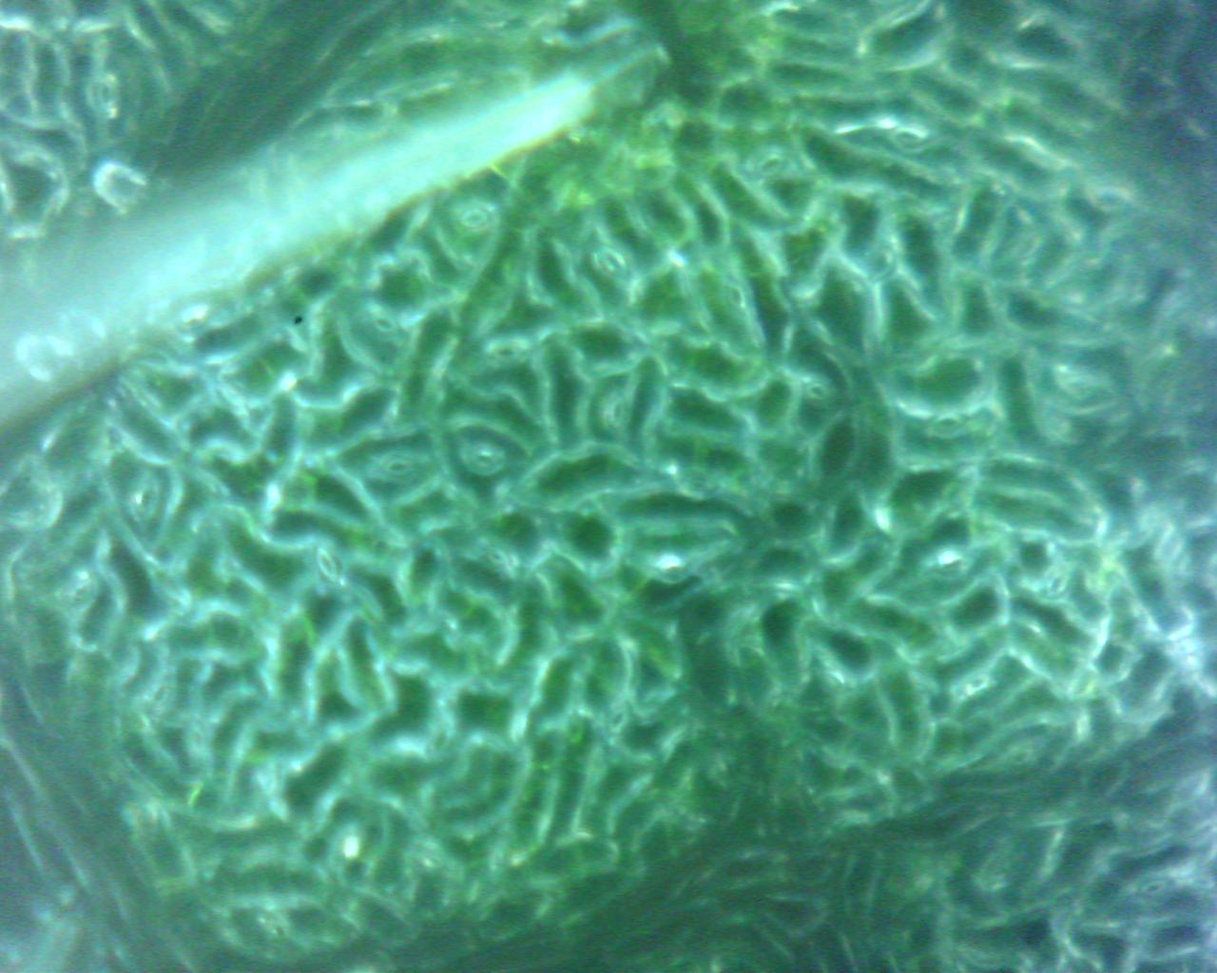stomata: (1085, 180, 1136, 216), (90, 77, 121, 117), (134, 476, 160, 521), (379, 454, 419, 482), (871, 247, 901, 284), (466, 446, 504, 475), (186, 718, 212, 760), (928, 412, 968, 439), (415, 845, 451, 874), (490, 341, 529, 367), (895, 124, 932, 151), (457, 203, 493, 230), (602, 244, 629, 278), (432, 723, 458, 758), (750, 152, 786, 177), (217, 380, 246, 410), (317, 547, 341, 582), (1137, 878, 1170, 903), (608, 702, 633, 735), (371, 314, 404, 339), (726, 278, 748, 315), (957, 673, 992, 696), (149, 677, 170, 714), (608, 393, 629, 430), (68, 578, 93, 609), (1044, 567, 1067, 599), (806, 382, 828, 403), (487, 548, 515, 564)
